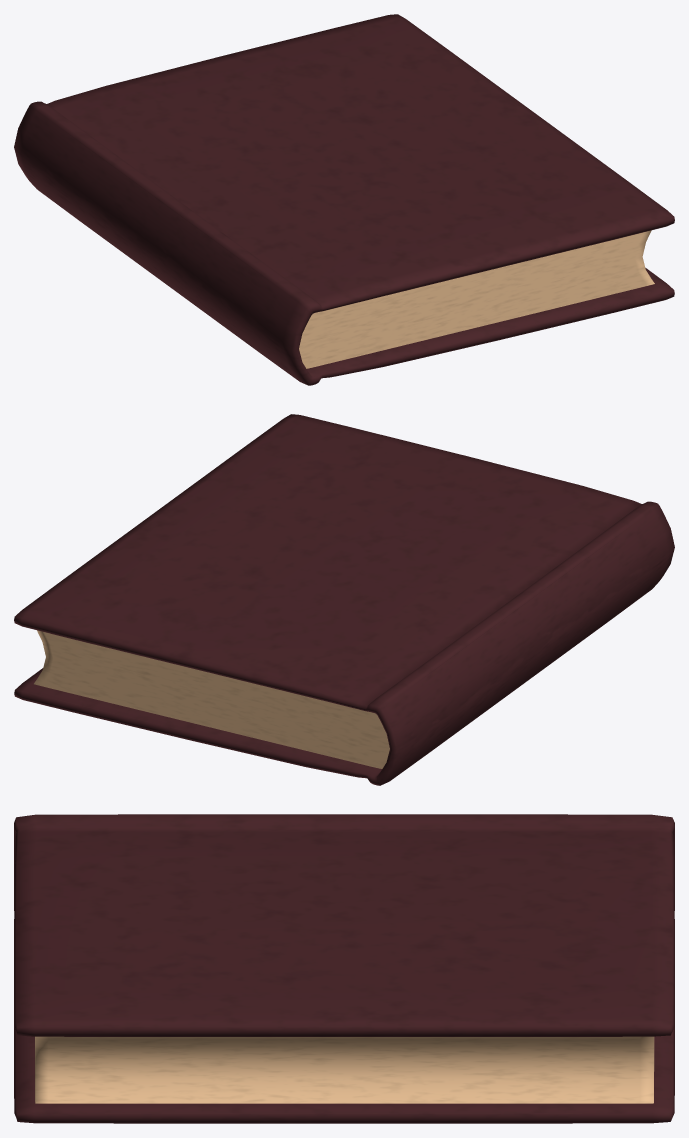
File: book.fbx
3 views of the same model, one above another, from view 1: azimuth 30°, elevation 25°; view 2: azimuth 150°, elevation 25°; view 3: azimuth 270°, elevation 25° (orthographic). The views are drawn at different scales.
Visible parts, largest first — view 1: Book; view 2: Book; view 3: Book.
Part boxes in pixels (x1=…): Book: x1=14, y1=14, x2=674, y2=385; Book: x1=14, y1=414, x2=674, y2=785; Book: x1=14, y1=814, x2=674, y2=1123.
Size of the model in its own units: 12.02 by 2.56 by 15.1.
